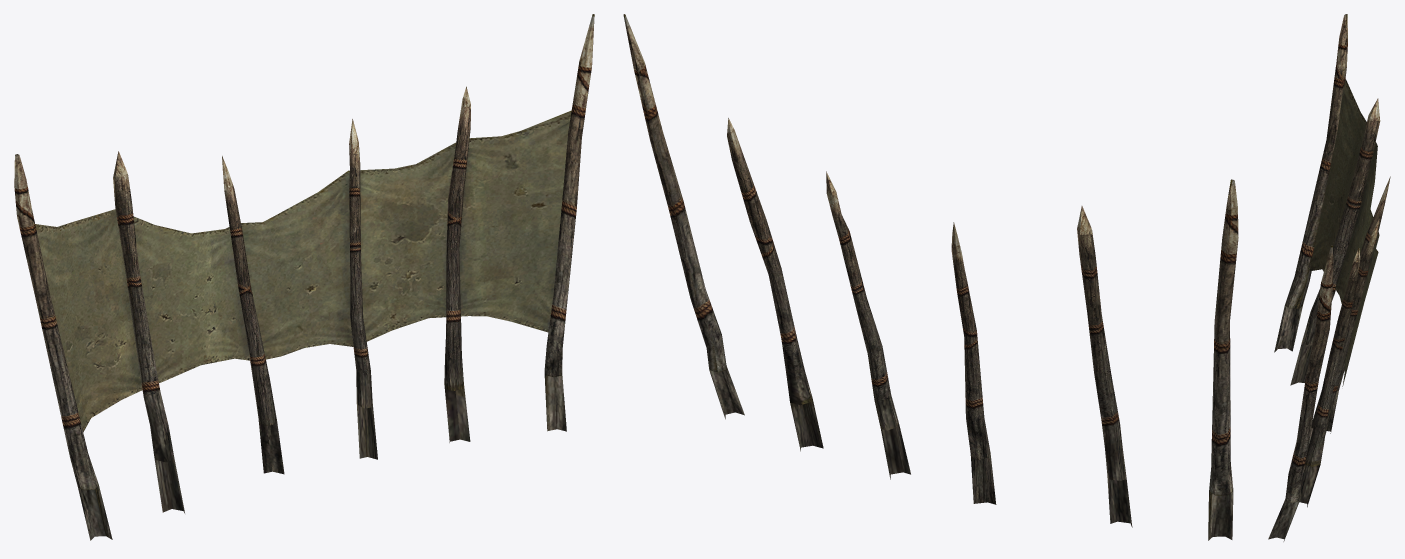
File: gaint_fence_re_01.glb
3 views of the same model, side by side, from view 1: azimuth 30°, elevation 25°; view 2: azimuth 150°, elevation 25°; view 3: azimuth 270°, elevation 25° (orthographic). The views are drawn at different scales.
Visible parts, largest first — view 1: Object01; view 2: Object01; view 3: Object01.
Part boxes in pixels (x1,y1,x2,y2): Object01: (14,14,594,540); Object01: (623,14,1238,540); Object01: (1268,14,1390,541).
Size of the model in its own units: 18.42 by 11.65 by 4.01.
1 material, 1 textured.
